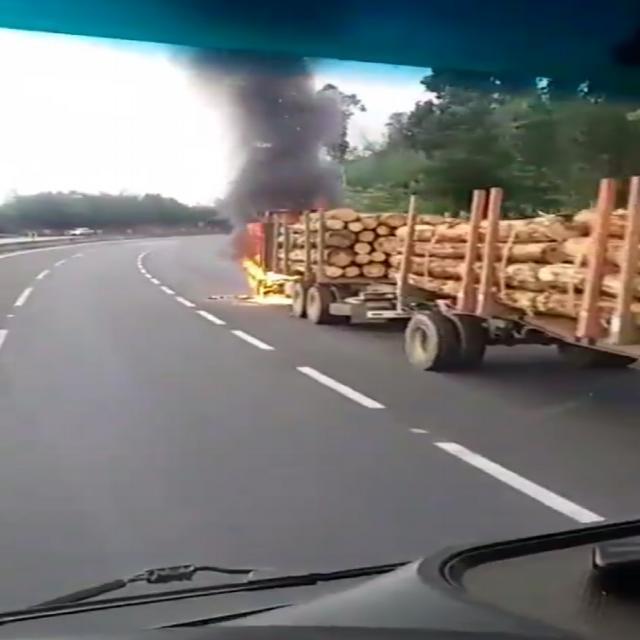Fire: (232, 255, 298, 309)
